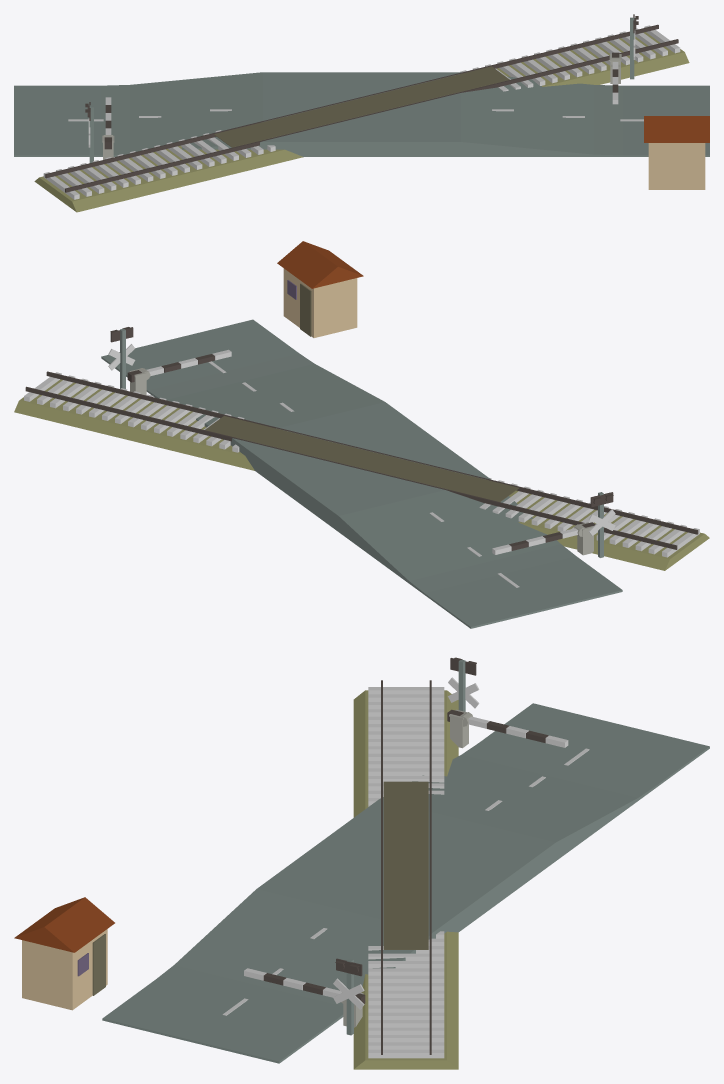
File: SM_PasoNivel_30_v0_Teja_LOD0.fbx
3 views of the same model, one above another, from view 1: azimuth 30°, elevation 25°; view 2: azimuth 150°, elevation 25°; view 3: azimuth 270°, elevation 25° (orthographic). The views are drawn at different scales.
Parts seen in each view (by area): view 1: SM_paso_nivel_kit_v15_LOD0, Barrera_1, Barrera_2; view 2: SM_paso_nivel_kit_v15_LOD0, Barrera_1, Barrera_2; view 3: SM_paso_nivel_kit_v15_LOD0, Barrera_2, Barrera_1.
Part boxes in pixels (x1,y1,x2,y2): SM_paso_nivel_kit_v15_LOD0: (14, 14, 709, 212); Barrera_1: (611, 52, 620, 104); Barrera_2: (103, 97, 112, 149); SM_paso_nivel_kit_v15_LOD0: (14, 241, 709, 628); Barrera_1: (127, 349, 231, 382); Barrera_2: (492, 522, 595, 554); SM_paso_nivel_kit_v15_LOD0: (14, 657, 709, 1069); Barrera_2: (447, 709, 568, 747); Barrera_1: (244, 968, 365, 1003).
Size of the model in its own units: 30 by 3 by 23.85.
